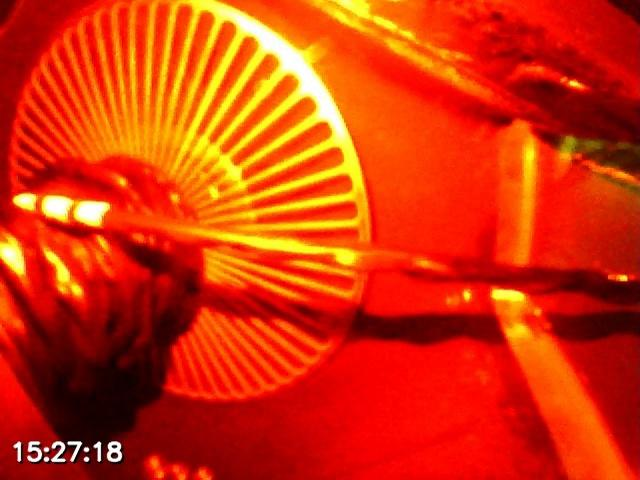white-dots: (13, 193, 110, 229)
